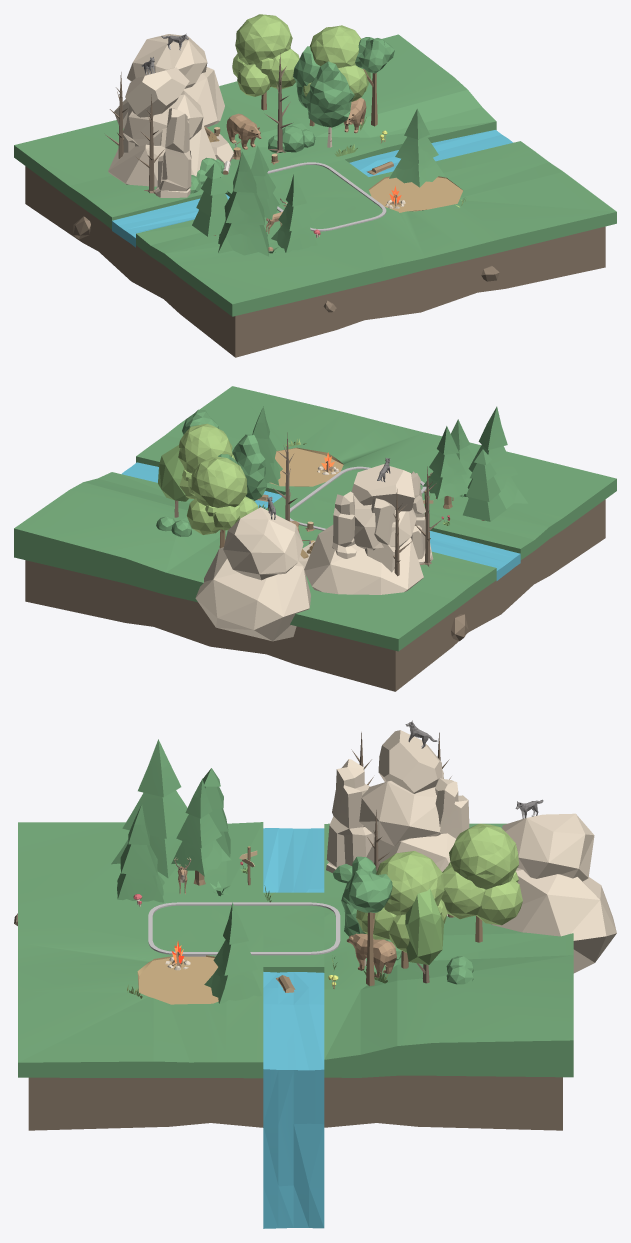
The model's file is Lvl_3.fbx.
The picture shows the model from 3 angles, top to bottom: view 1: azimuth 30°, elevation 25°; view 2: azimuth 150°, elevation 25°; view 3: azimuth 270°, elevation 25°; orthographic projection. The views are drawn at different scales.
Parts seen in each view (by area): view 1: world_forest.001, tree_lime.002, tree_04__2_.001, rock03__1_.003, stone_03__1_.002, tree_birch.001, tree_lime.001, stone_round.005, tree_spruce.001, stone_diamond.005, tree_04__3_.001, stone_03__1_.001 (+12 smaller); view 2: world_forest.001, stone_round.006, stone_round.005, stone_03__1_.002, tree_lime.002, stone_diamond.005, tree_04__2_.001, tree_lime.001, tree_fir.001, stone_03__1_.001, tree_birch.001, tree_04__4_.001 (+10 smaller); view 3: world_forest.001, tree_lime.002, stone_round.006, stone_03__1_.002, tree_lime.001, tree_04__2_.001, stone_03__1_.001, rock03__1_.003, tree_04__1_.001, tree_spruce.001, stone_diamond.005, tree_04__3_.001 (+8 smaller).
Boxes of the visible parts, left/top/right/bottom form: world_forest.001: left=14, top=34, right=616, bottom=357; tree_lime.002: left=232, top=14, right=299, bottom=110; tree_04__2_.001: left=218, top=151, right=269, bottom=256; rock03__1_.003: left=154, top=108, right=191, bottom=197; stone_03__1_.002: left=127, top=34, right=207, bottom=88; tree_birch.001: left=305, top=61, right=354, bottom=147; tree_lime.001: left=303, top=25, right=367, bottom=101; stone_round.005: left=108, top=123, right=216, bottom=186; tree_spruce.001: left=389, top=109, right=444, bottom=187; stone_diamond.005: left=125, top=67, right=189, bottom=117; tree_04__3_.001: left=271, top=174, right=317, bottom=252; stone_03__1_.001: left=123, top=90, right=203, bottom=145; world_forest.001: left=14, top=386, right=616, bottom=691; stone_round.006: left=195, top=547, right=310, bottom=641; stone_round.005: left=304, top=525, right=423, bottom=594; stone_03__1_.002: left=223, top=507, right=303, bottom=580; tree_lime.002: left=187, top=456, right=258, bottom=548; stone_diamond.005: left=351, top=464, right=414, bottom=511; tree_04__2_.001: left=463, top=406, right=527, bottom=508; tree_lime.001: left=178, top=423, right=235, bottom=498; tree_fir.001: left=463, top=449, right=506, bottom=521; stone_03__1_.001: left=353, top=495, right=416, bottom=550; tree_birch.001: left=232, top=434, right=266, bottom=500; tree_04__4_.001: left=423, top=426, right=468, bottom=508; world_forest.001: left=14, top=822, right=573, bottom=1228; tree_lime.002: left=441, top=823, right=522, bottom=942; stone_round.006: left=491, top=868, right=616, bottom=973; stone_03__1_.002: left=502, top=813, right=594, bottom=881; tree_lime.001: left=356, top=851, right=447, bottom=968; tree_04__2_.001: left=111, top=739, right=188, bottom=878; stone_03__1_.001: left=359, top=781, right=441, bottom=846; rock03__1_.003: left=326, top=759, right=374, bottom=873; tree_04__1_.001: left=171, top=778, right=231, bottom=885; tree_spruce.001: left=204, top=902, right=261, bottom=1003; stone_diamond.005: left=378, top=730, right=441, bottom=793; tree_04__3_.001: left=117, top=804, right=164, bottom=902.
Size of the model in its own units: 10143 by 6192 by 10734.
